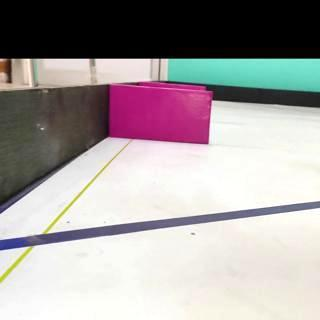xparking: (117, 89, 211, 144)
